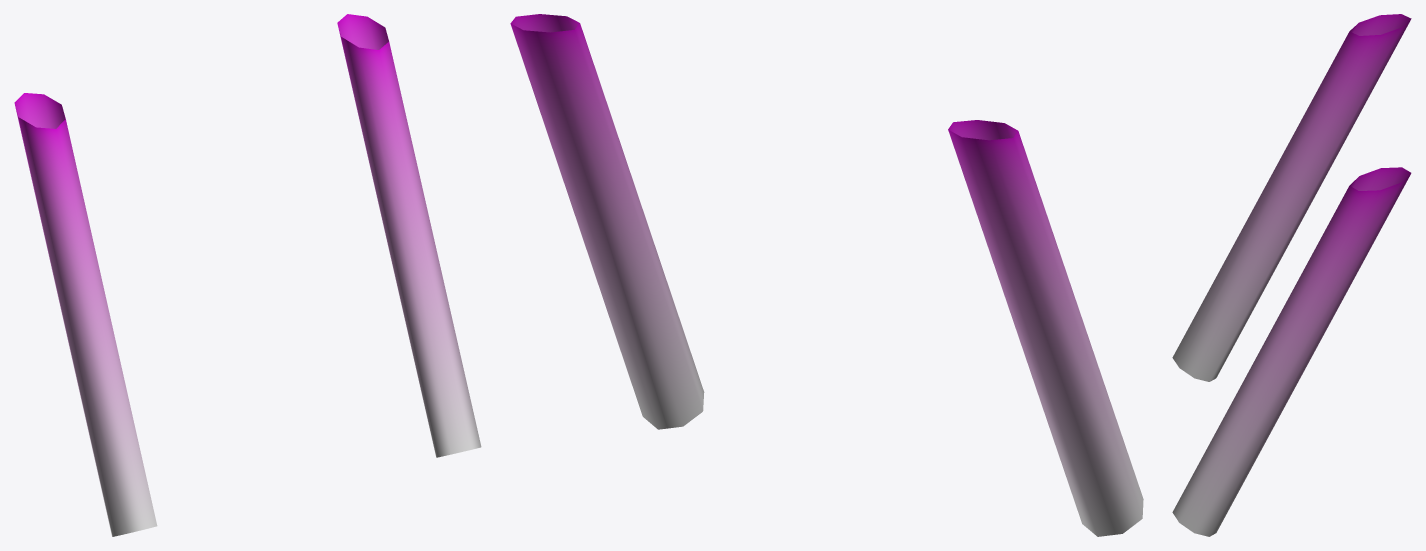
File: Car_Ford_GT_2017_Spoiler_SetA.fbx
3 views of the same model, side by side, from view 1: azimuth 30°, elevation 25°; view 2: azimuth 150°, elevation 25°; view 3: azimuth 270°, elevation 25° (orthographic). The views are drawn at different scales.
Parts seen in each view (by area): view 1: Spoiler 6; view 2: Spoiler 6; view 3: Spoiler 6.
Part boxes in pixels (left/top/right/bottom): Spoiler 6: left=14, top=14, right=481, bottom=536; Spoiler 6: left=510, top=14, right=1143, bottom=536; Spoiler 6: left=1172, top=14, right=1411, bottom=536.
Bounding box in the file's own units: 0.2944 × 0.2812 × 0.1694.
